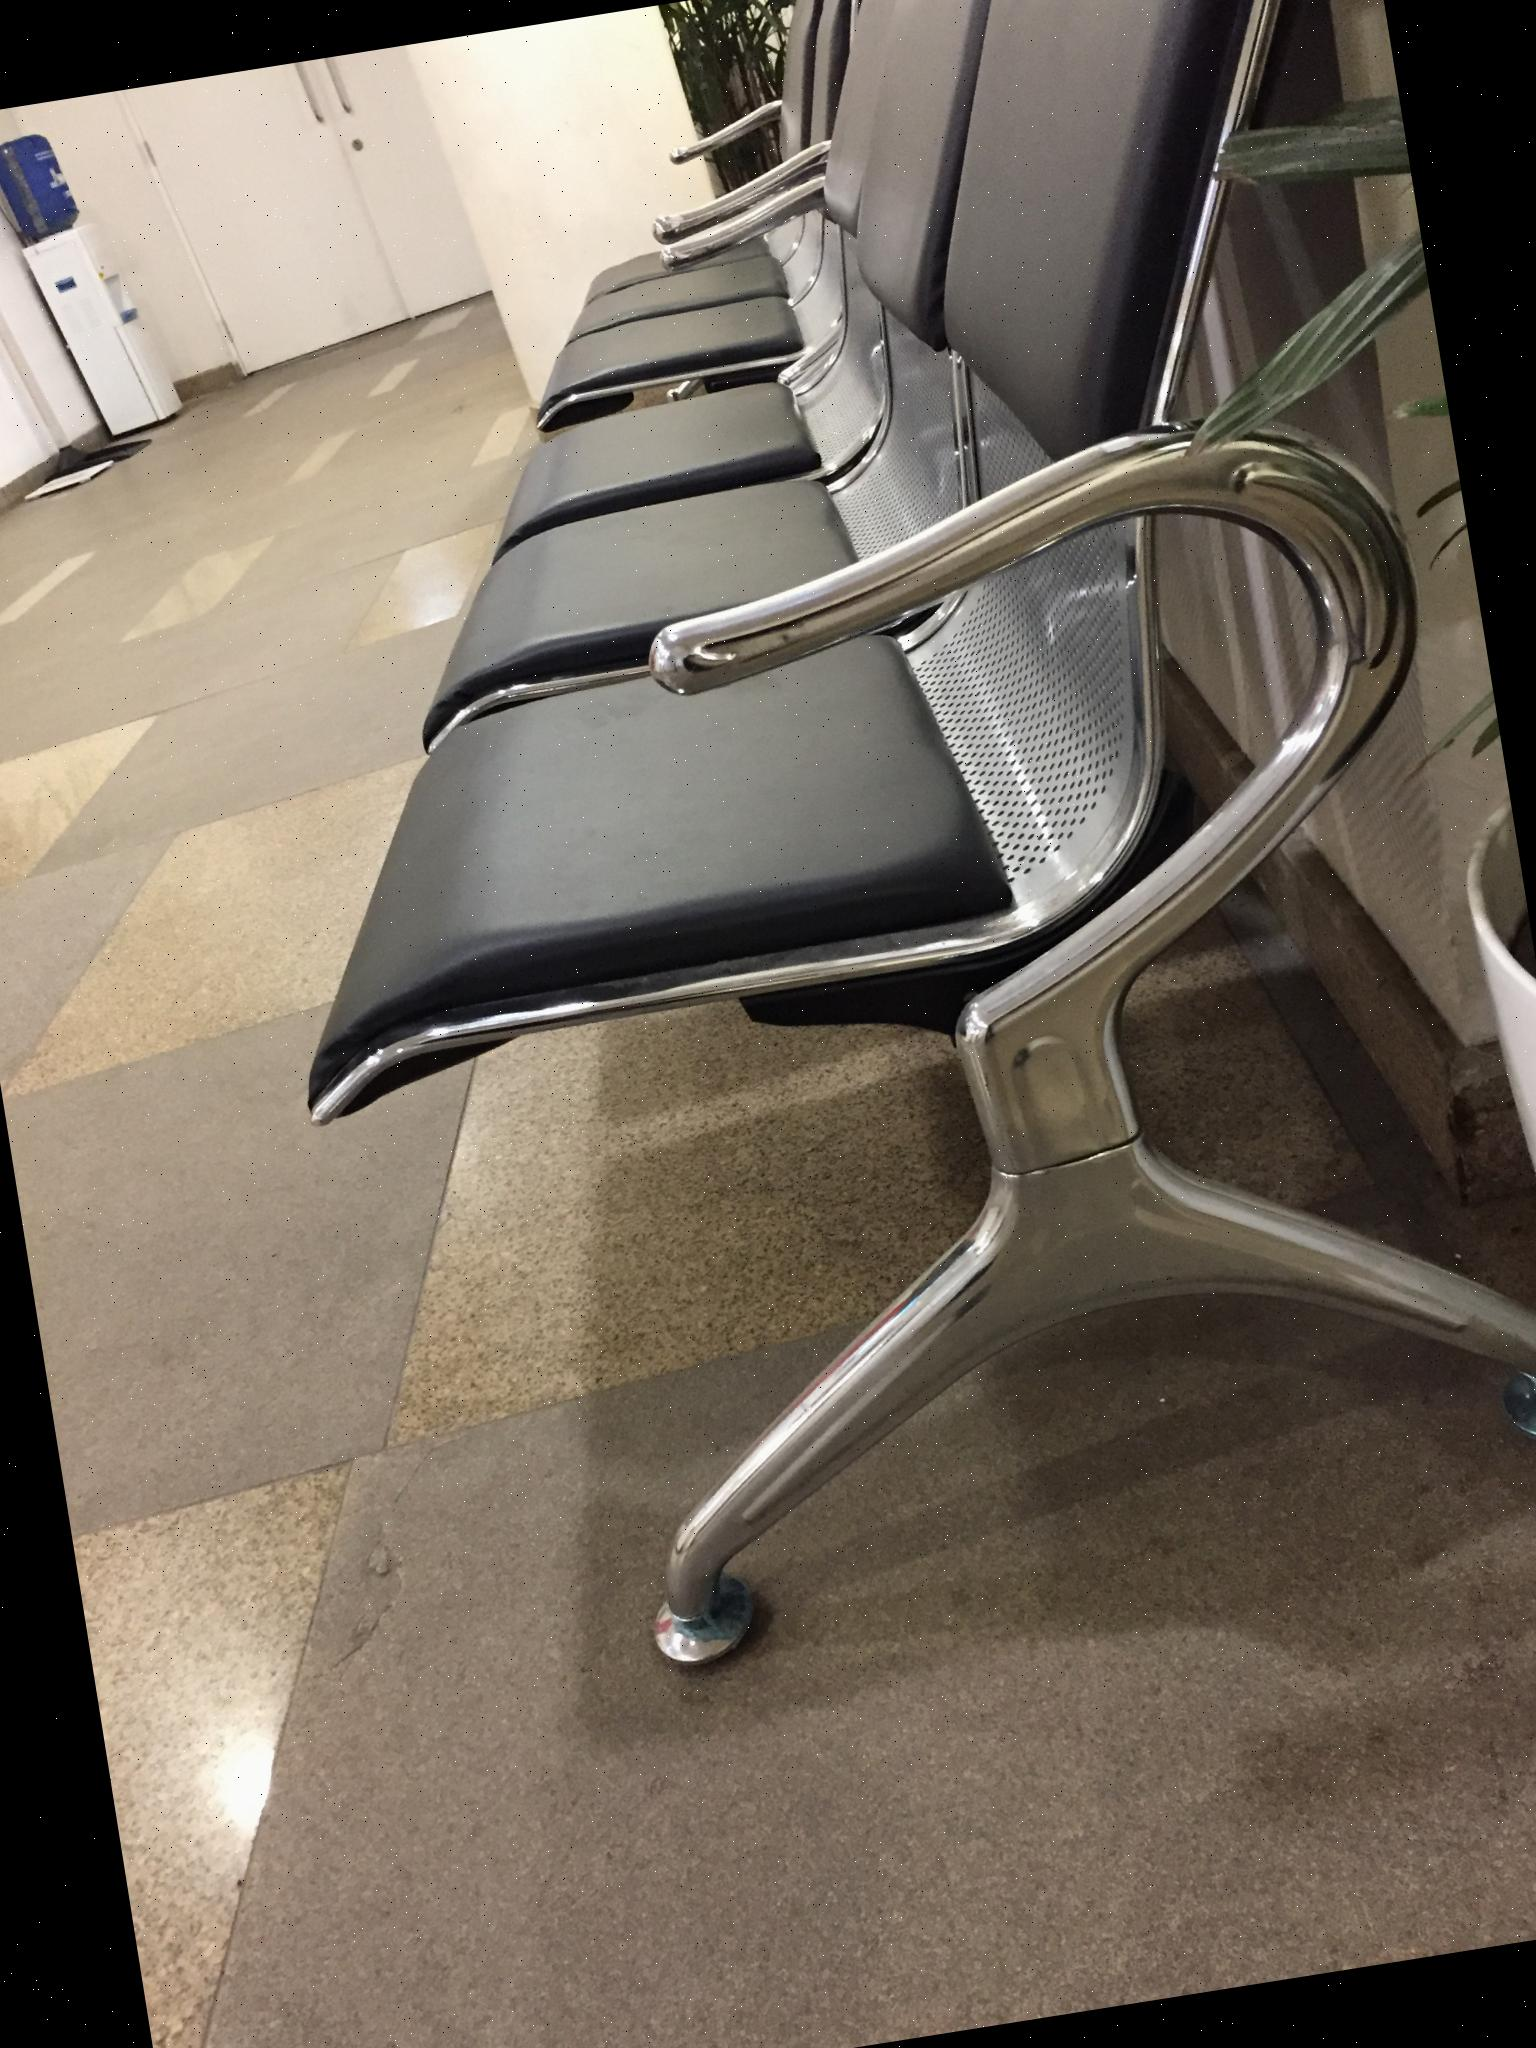chair: (144, 0, 1536, 1711), (242, 0, 1092, 742), (402, 0, 983, 498), (503, 0, 879, 360)
